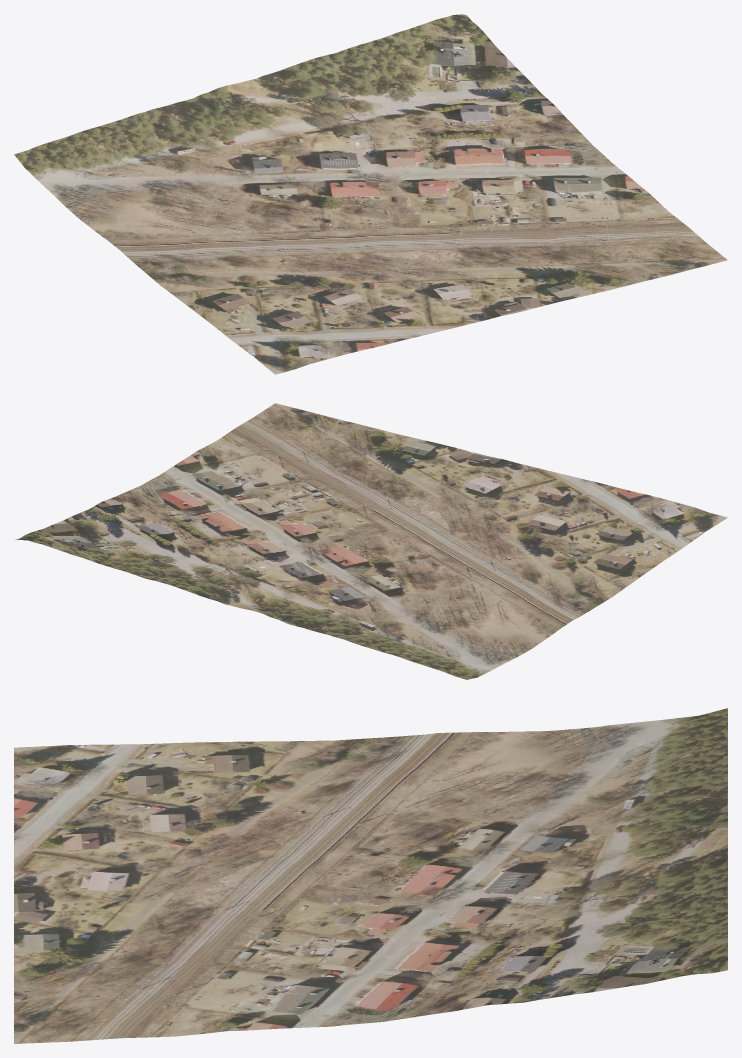
File: CM_Terrain_24489639_6819999.fbx
3 views of the same model, one above another, from view 1: azimuth 30°, elevation 25°; view 2: azimuth 150°, elevation 25°; view 3: azimuth 270°, elevation 25° (orthographic). The views are drawn at different scales.
Parts seen in each view (by area): view 1: CM_Terrain_24489639_6819999_LOD0; view 2: CM_Terrain_24489639_6819999_LOD0; view 3: CM_Terrain_24489639_6819999_LOD0.
Part boxes in pixels (left/top/right/bottom): CM_Terrain_24489639_6819999_LOD0: left=14, top=14, right=727, bottom=374; CM_Terrain_24489639_6819999_LOD0: left=15, top=403, right=727, bottom=679; CM_Terrain_24489639_6819999_LOD0: left=14, top=708, right=727, bottom=1043.
Size of what is drawn, in the model's own units: 205 by 26.5 by 205.
